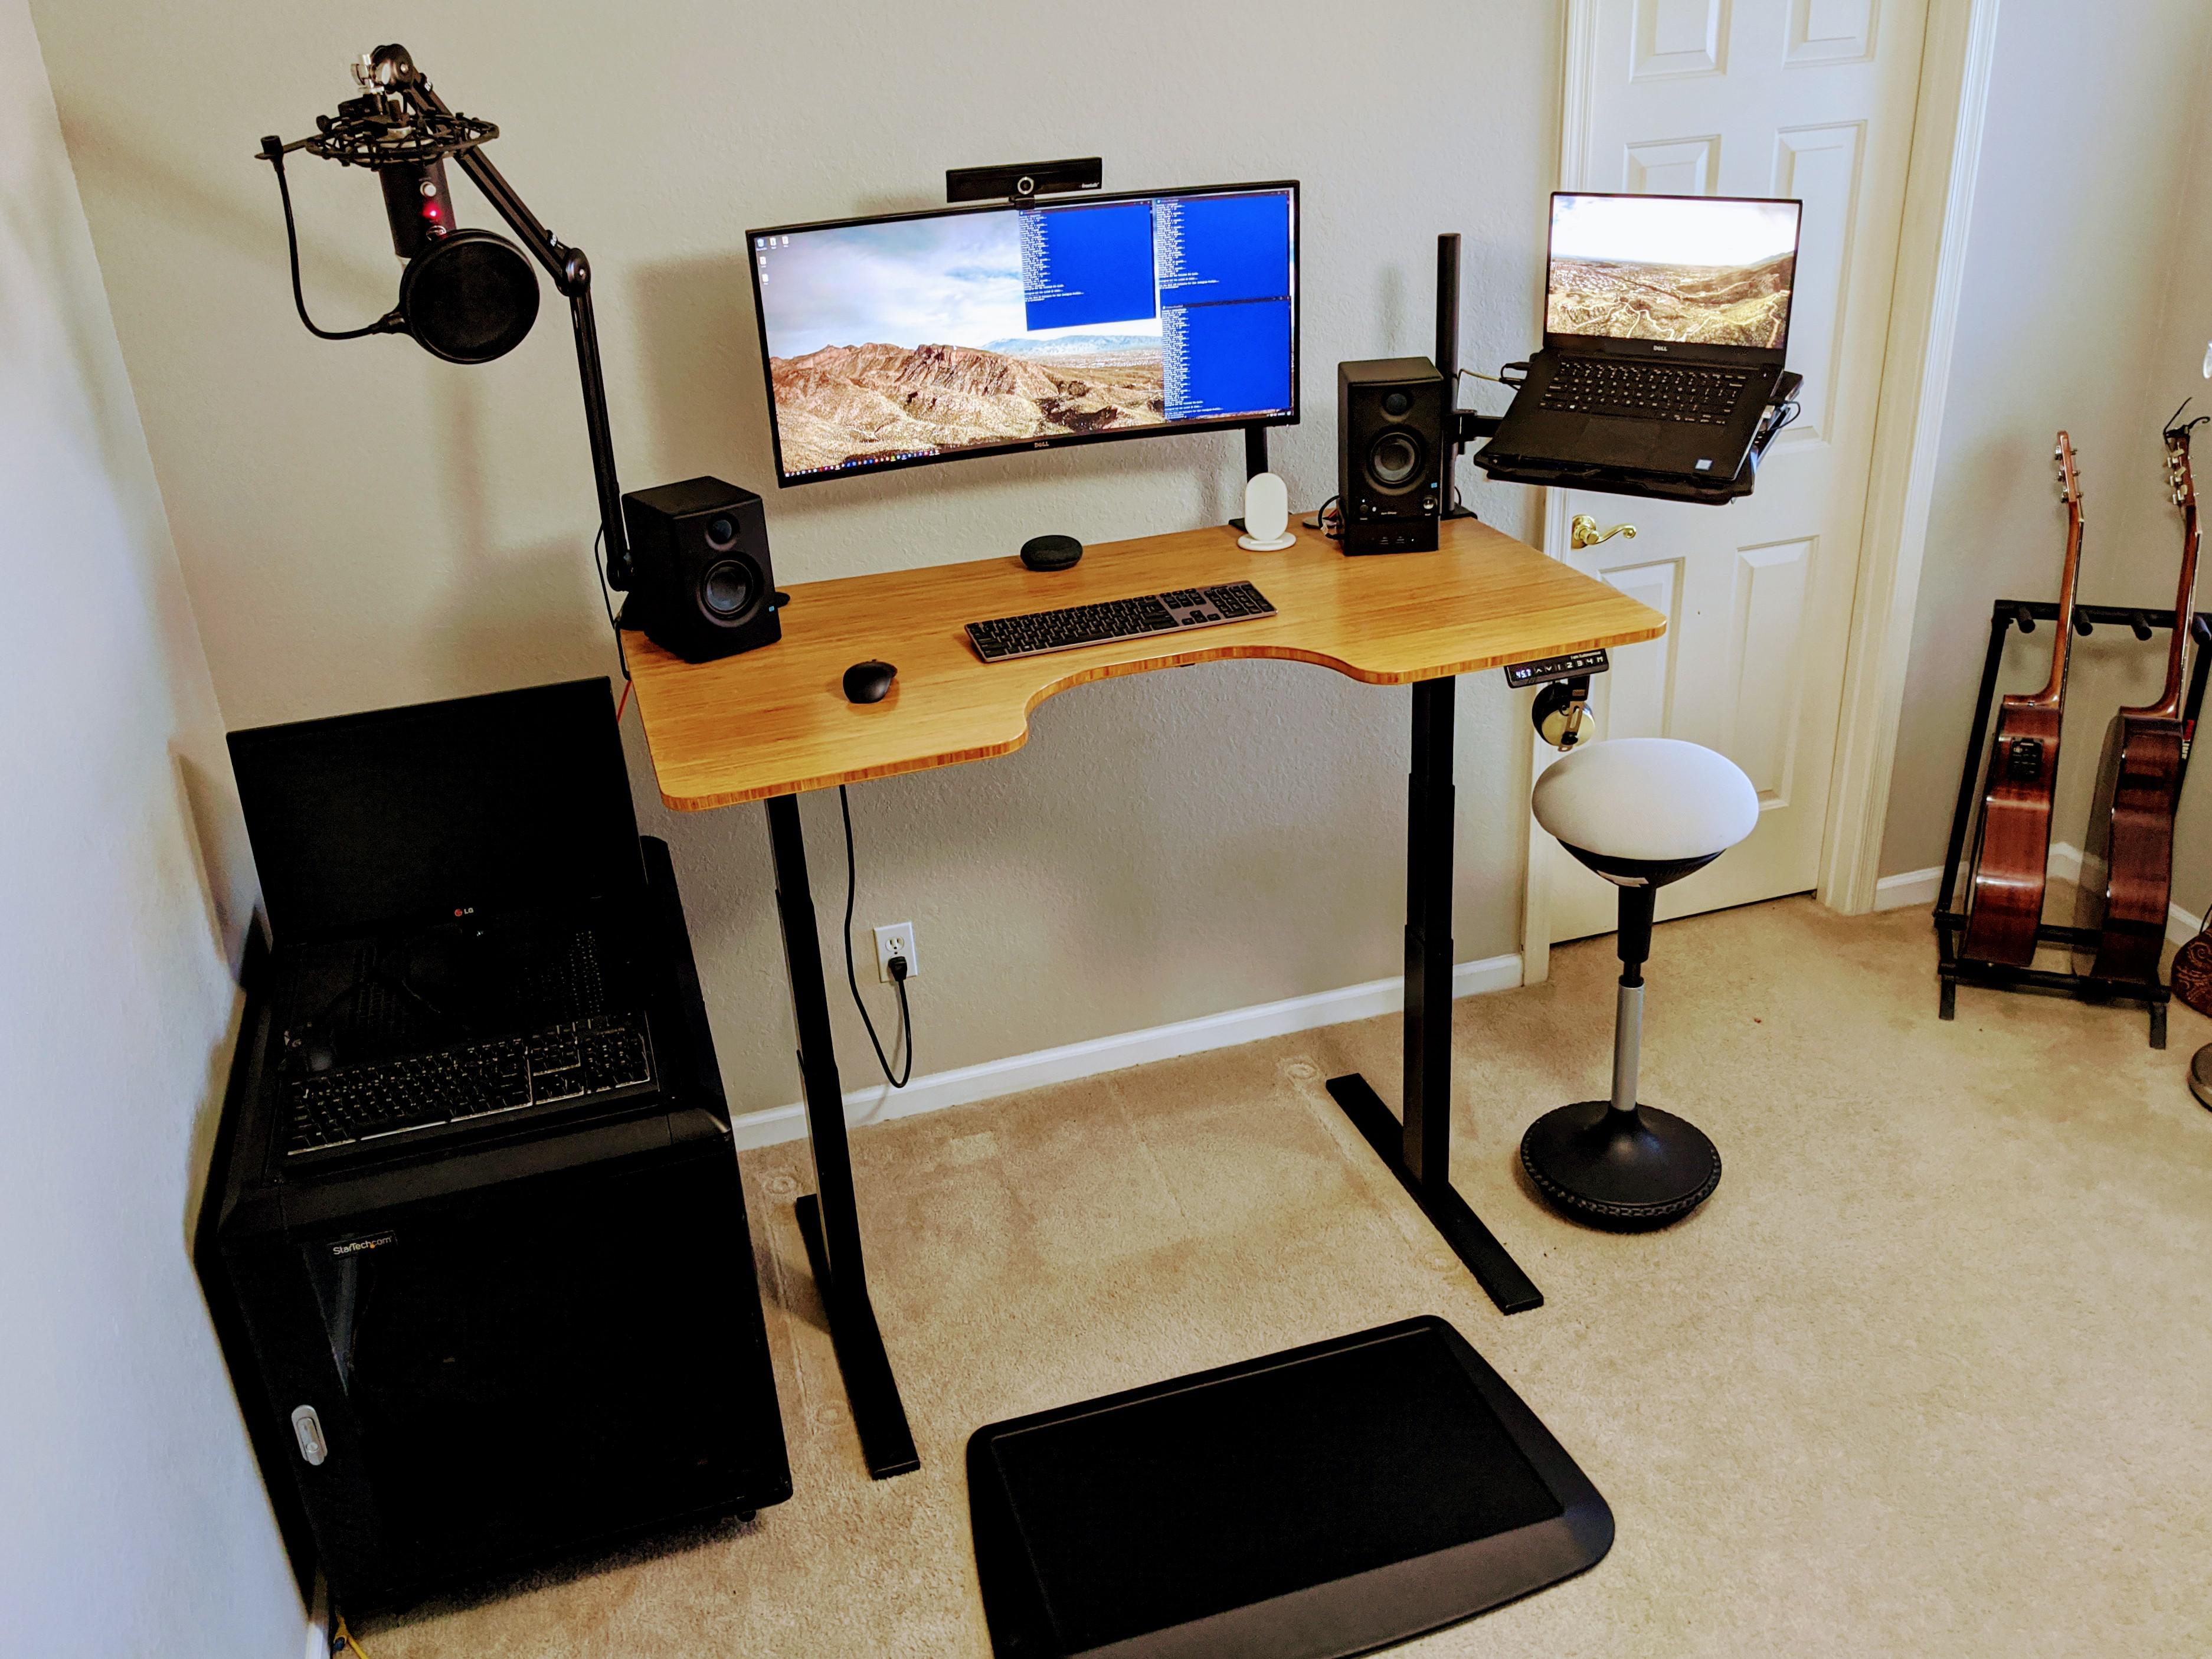Desk (Standing): (599, 500, 1676, 842)
External Microphone (with Boom Arm): (261, 40, 639, 587)
External Speakers (Subwoofers): (622, 474, 784, 667), (1334, 355, 1442, 559)
External Webcam: (942, 152, 1106, 211)
Keyboard (Generic): (275, 1004, 671, 1162), (963, 579, 1277, 666)
Laptop (Generic): (1486, 188, 1804, 481)
Monitor (Landscape): (745, 181, 1318, 491), (209, 678, 655, 1006)
Monitor (Laptop): (1547, 190, 1785, 354)
Mouse (Generic): (840, 657, 899, 704)
Musical Instrument (Guitar): (2067, 422, 2207, 1007), (1958, 432, 2083, 985)
